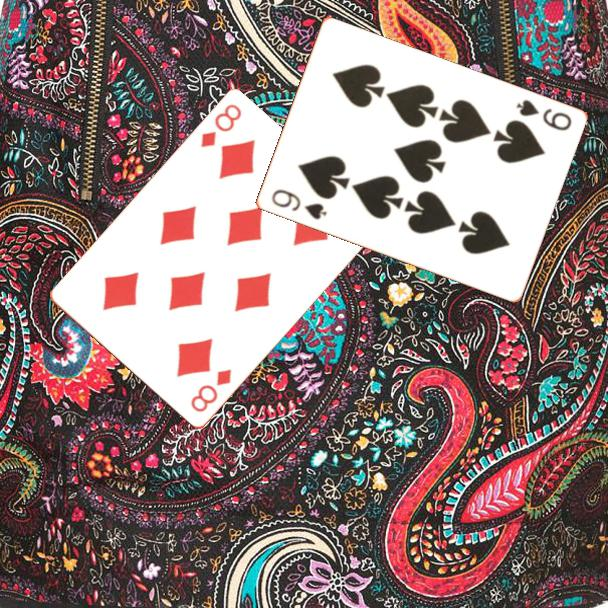d08: (187, 366, 235, 416), (197, 101, 244, 151)
s09: (512, 96, 574, 134), (267, 186, 329, 223)
